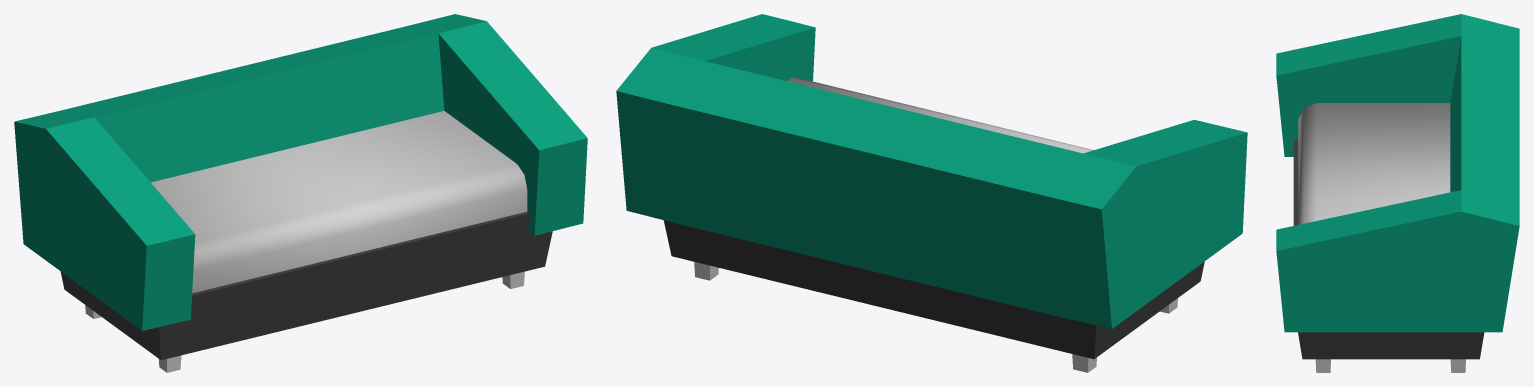
File: Sofa 2.fbx
3 views of the same model, side by side, from view 1: azimuth 30°, elevation 25°; view 2: azimuth 150°, elevation 25°; view 3: azimuth 270°, elevation 25° (orthographic). The views are drawn at different scales.
Parts seen in each view (by area): view 1: Sofa 2; view 2: Sofa 2; view 3: Sofa 2.
Part boxes in pixels (x1,y1,x2,y2): Sofa 2: (14, 14, 587, 372); Sofa 2: (616, 14, 1247, 372); Sofa 2: (1276, 14, 1519, 372).
Bounding box in the file's own units: 180 × 76.48 × 93.56.
